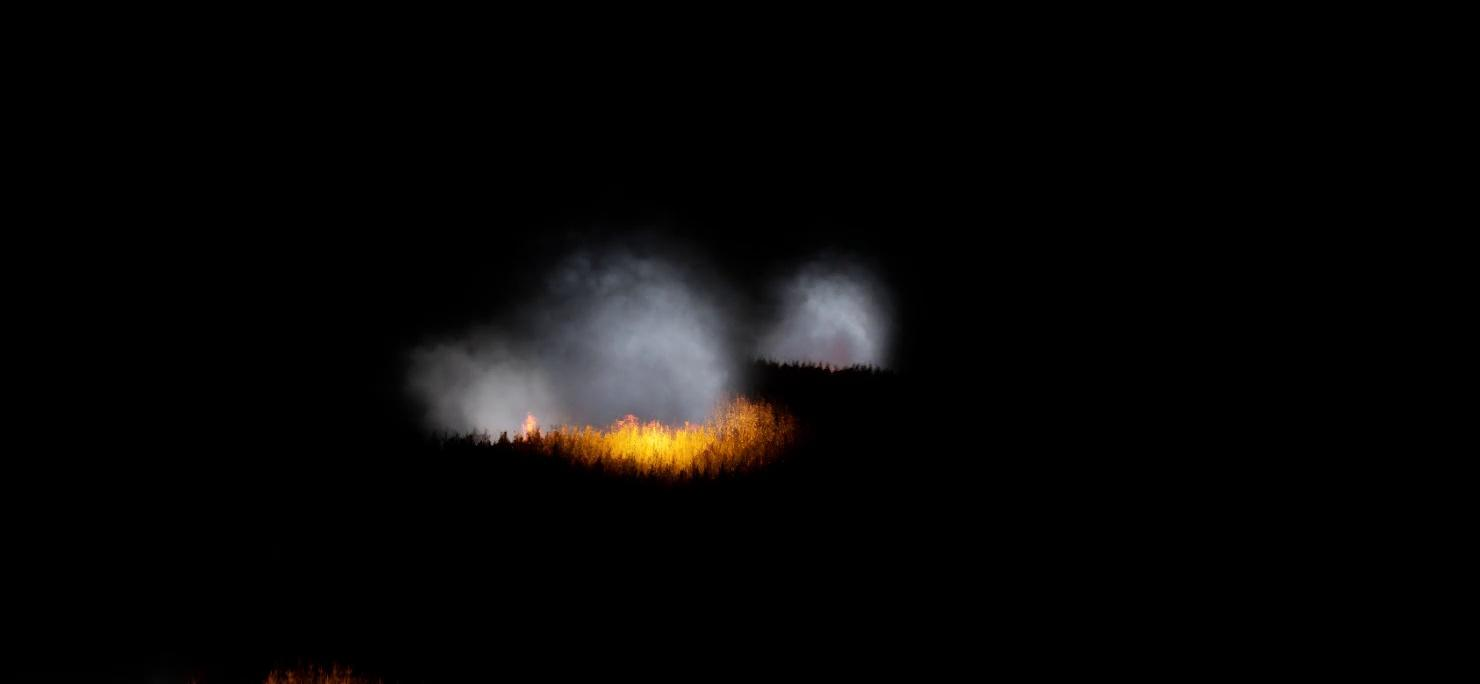fire: (519, 401, 771, 473)
smoke: (378, 248, 901, 441)
